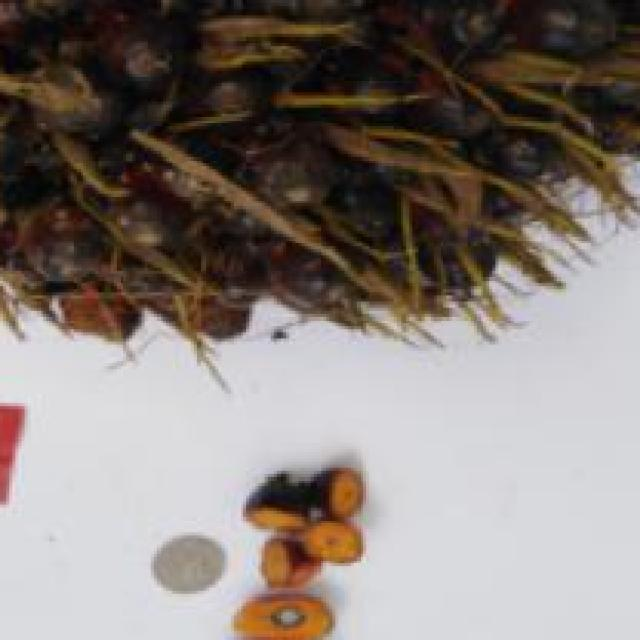unripe: (0, 0, 640, 505)
